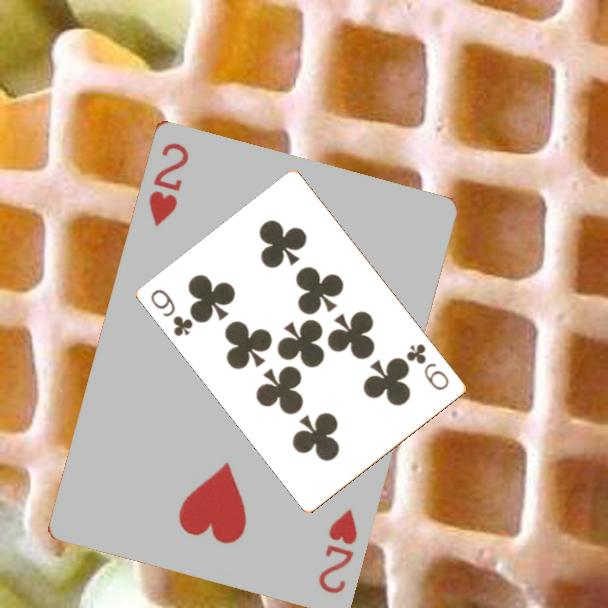c09: (147, 285, 197, 340), (403, 340, 453, 394)
h02: (144, 138, 192, 230), (314, 504, 360, 596)
